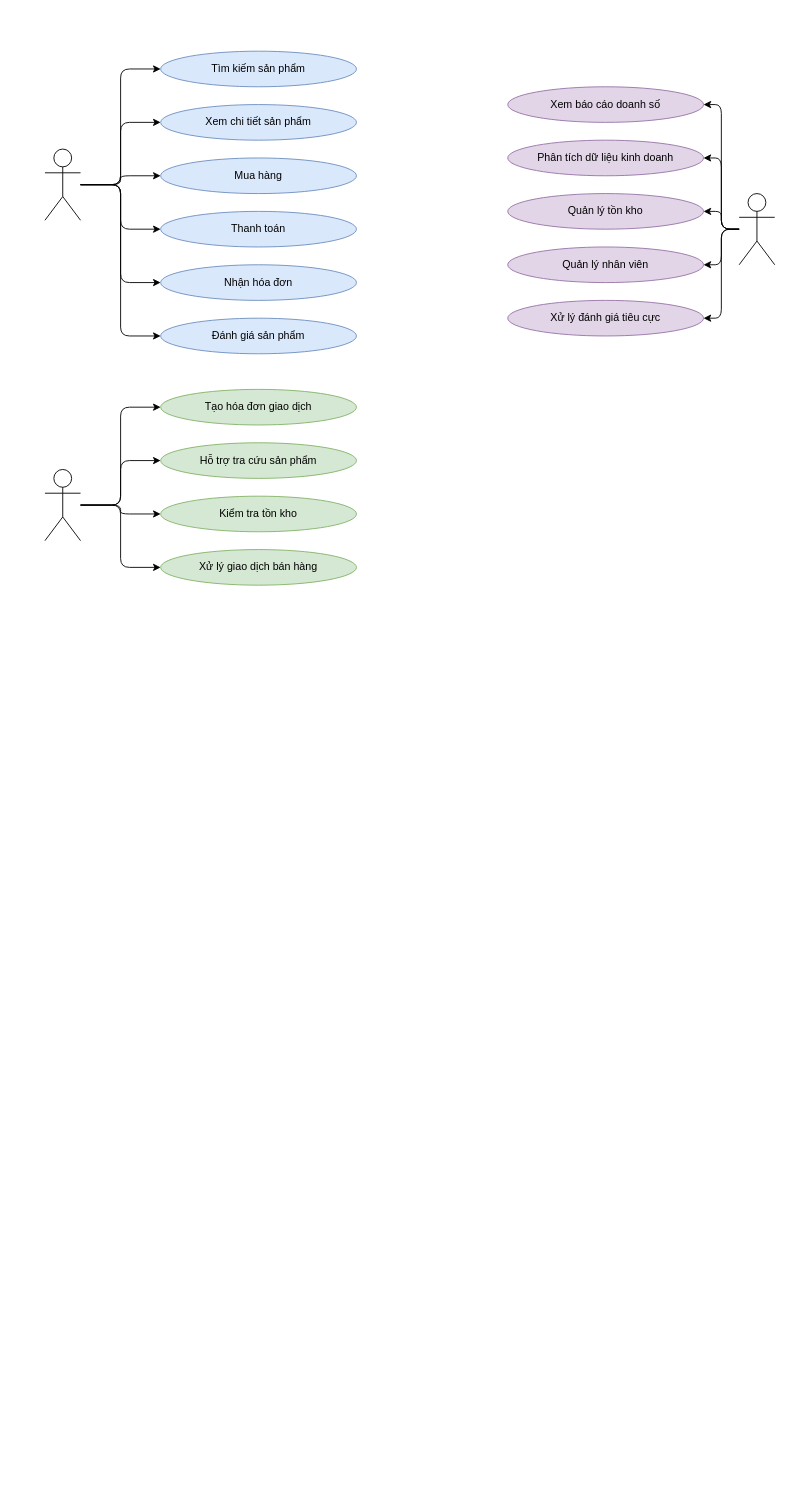
Image size: 806x1508. Some labels were removed from this diagram. Each missing label, with the box of its shape:
Khách hàng: (44, 148, 81, 220)
Người quản lý: (738, 193, 775, 265)
Nhân viên bán hàng: (44, 469, 81, 541)
